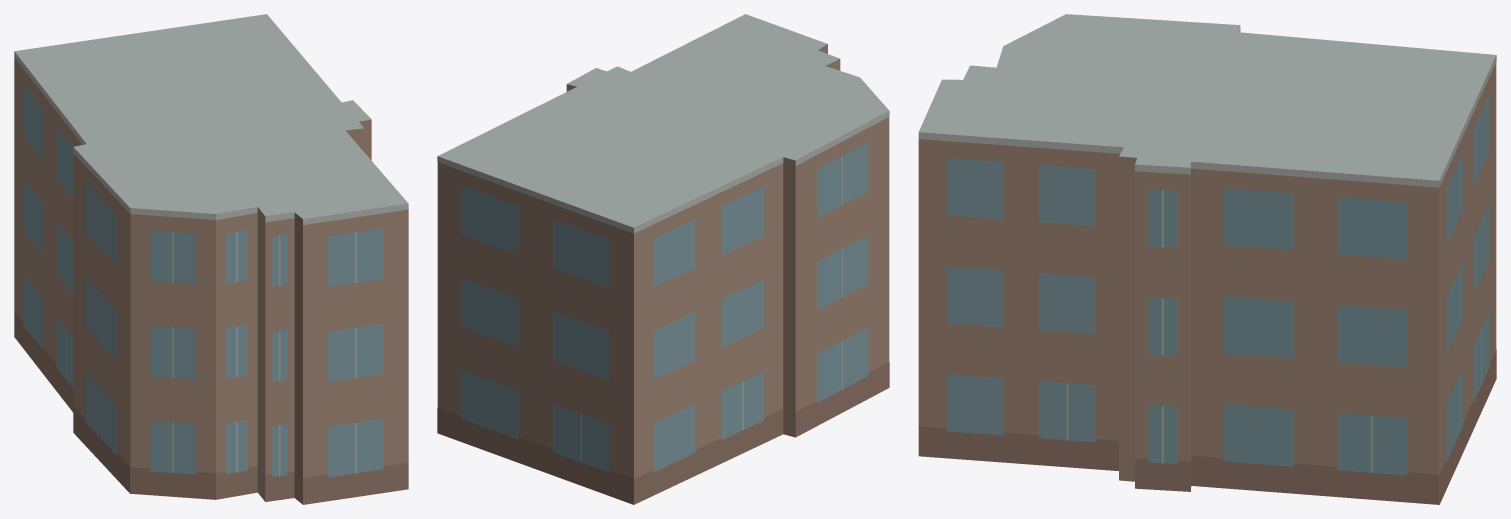
The model's file is survey-upis-32582357.glb.
3 views of the same model, side by side, from view 1: azimuth 30°, elevation 25°; view 2: azimuth 150°, elevation 25°; view 3: azimuth 270°, elevation 25° (orthographic). The views are drawn at different scales.
Parts seen in each view (by area): view 1: survey-upis-32582357.tmp; view 2: survey-upis-32582357.tmp; view 3: survey-upis-32582357.tmp.
Boxes of the visible parts, left/top/right/bottom form: survey-upis-32582357.tmp: left=14, top=14, right=408, bottom=504; survey-upis-32582357.tmp: left=437, top=14, right=889, bottom=504; survey-upis-32582357.tmp: left=918, top=14, right=1496, bottom=504.
Size of the model in its own units: 12.82 by 11.6 by 18.76.
